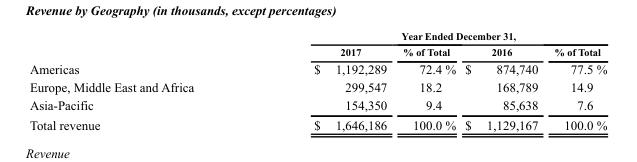table: (28, 29, 606, 131)
table column: (28, 29, 253, 131), (253, 29, 394, 131), (459, 29, 545, 131), (394, 29, 459, 131), (545, 29, 606, 131)
table column header: (28, 29, 606, 59)
table row: (28, 95, 606, 114), (28, 59, 606, 77), (28, 77, 606, 95), (28, 114, 606, 131), (28, 43, 606, 59), (28, 29, 606, 43)
table spanning cell: (253, 29, 606, 43)
